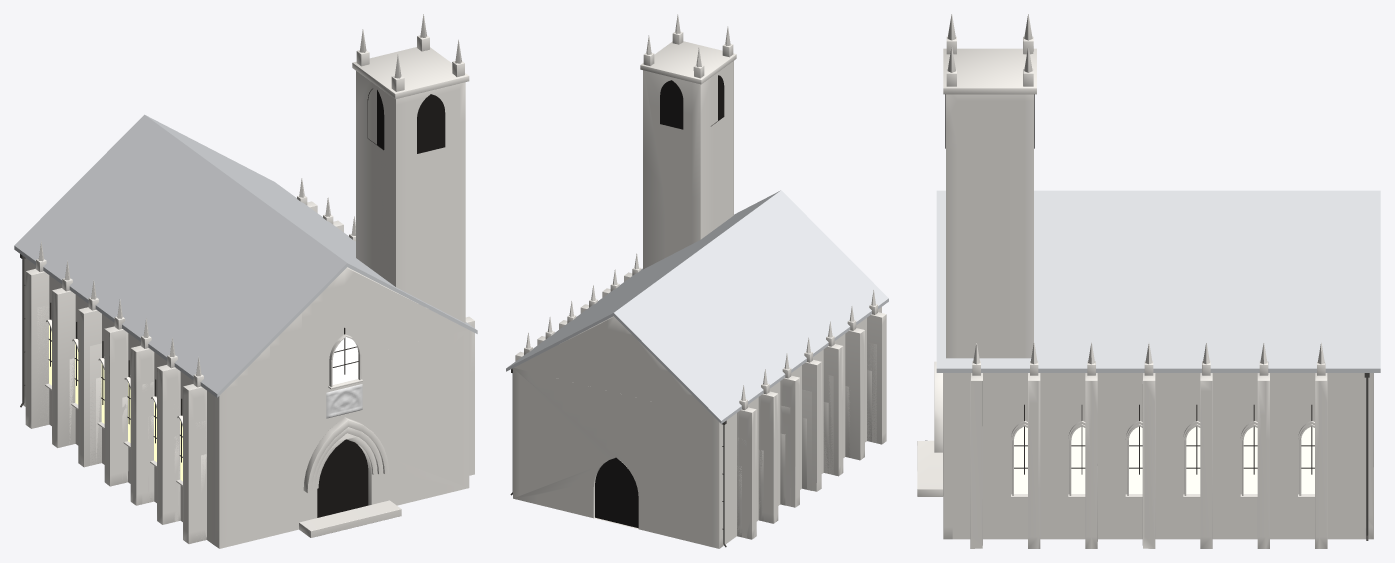
Rendered from high-tower.glb.
The picture shows the model from 3 angles, left to right: view 1: azimuth 30°, elevation 25°; view 2: azimuth 150°, elevation 25°; view 3: azimuth 270°, elevation 25°; orthographic projection. The views are drawn at different scales.
Visible parts, largest first — view 1: immanuel_wall, immanuel_roof, immanuel_trim, immanuel_shadow, immanuel_glass, merged_immanuel_relief_gothic-tympanum, detail_immanuel_frame; view 2: immanuel_wall, immanuel_roof, immanuel_trim, immanuel_shadow; view 3: immanuel_wall, immanuel_roof, immanuel_trim, immanuel_glass, detail_immanuel_frame.
Part boxes in pixels (box(x1,y1,x2,y2)): immanuel_wall: box(23, 71, 474, 548); immanuel_roof: box(14, 114, 477, 397); immanuel_trim: box(36, 14, 469, 537); immanuel_shadow: box(317, 88, 445, 517); immanuel_glass: box(49, 324, 358, 481); merged_immanuel_relief_gothic-tympanum: box(326, 384, 362, 418); detail_immanuel_frame: box(48, 302, 358, 462); immanuel_wall: box(513, 61, 886, 548); immanuel_roof: box(506, 190, 888, 423); immanuel_trim: box(524, 14, 877, 410); immanuel_shadow: box(595, 75, 724, 528); immanuel_wall: box(943, 94, 1373, 548); immanuel_roof: box(936, 190, 1380, 372); immanuel_trim: box(917, 14, 1325, 497); immanuel_glass: box(1014, 427, 1314, 494); detail_immanuel_frame: box(1014, 404, 1314, 474).
Bounding box in the file's own units: 18.9 × 28.22 × 24.2.
